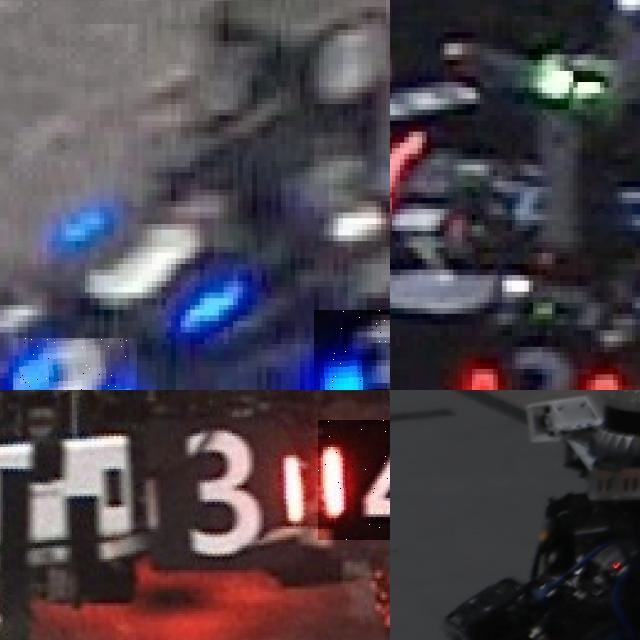B3: (13, 338, 137, 390), (314, 309, 390, 390)
R3: (453, 333, 626, 390)
R4: (318, 419, 390, 540)
